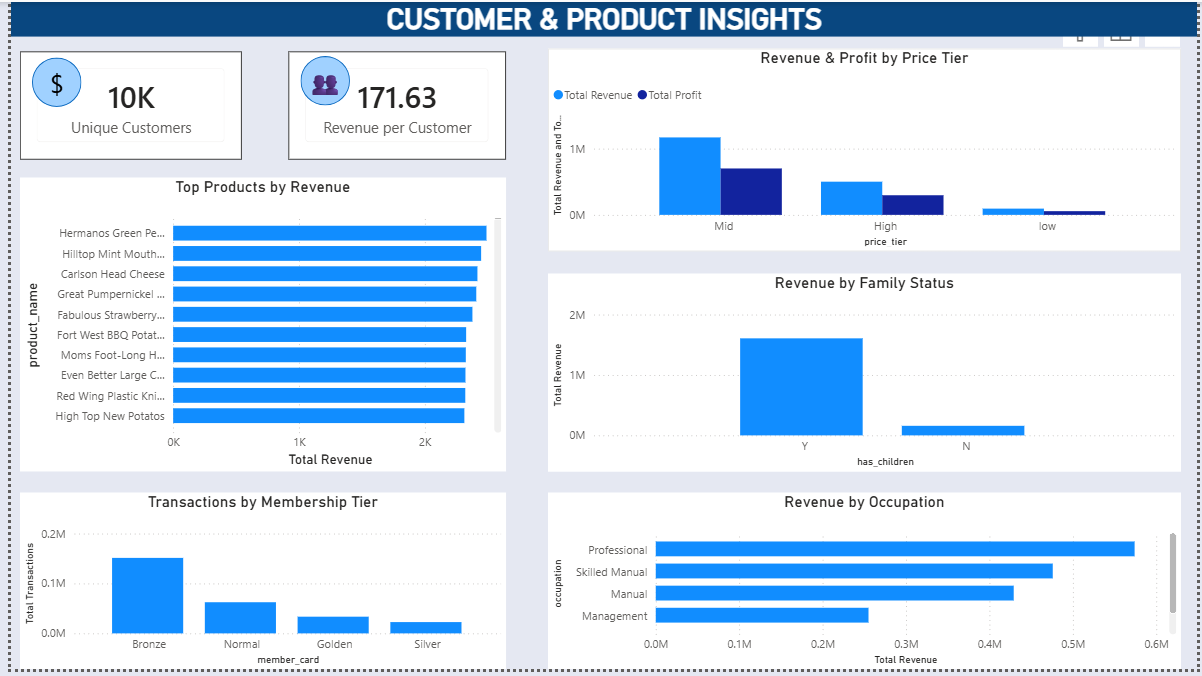

The page's visual inventory and layout, read from the dashboard file:
{"tool":"powerbi","page":{"name":"Customer & Product Analysis","canvas":[1280,720],"ordinal":1},"visuals":[{"type":"cardVisual","fields":{"Data":["Measures (2).Unique Customers"]},"box":[9.7,53.4,239.6,116.6],"z":0},{"type":"cardVisual","fields":{"Data":["Measures (2).Revenue per Customer"]},"box":[299.6,53.4,234.8,116.6],"z":1000},{"type":"clusteredBarChart","title":"Top Products by Revenue","fields":{"Category":["MavenMarket_Products.product_name"],"Y":["Measures (2).Total Revenue"]},"box":[9.7,189.4,524.6,317.4],"z":2000},{"type":"clusteredColumnChart","title":"Revenue & Profit by Price Tier","fields":{"Category":["MavenMarket_Products.price_tier"],"Y":["Measures (2).Total Revenue","Measures (2).Total Profit"]},"box":[579.7,50.2,683.3,218.6],"z":3000},{"type":"clusteredColumnChart","title":"Transactions by Membership Tier","fields":{"Category":["MavenMarket_Customers.member_card"],"Y":["Measures (2).Total Transactions"]},"box":[9.7,529.5,524.6,191.1],"z":4000},{"type":"clusteredBarChart","title":"Revenue by Occupation","fields":{"Category":["MavenMarket_Customers.occupation"],"Y":["Measures (2).Total Revenue"]},"box":[579.7,529.5,683.3,191.1],"z":5000},{"type":"clusteredColumnChart","title":"Revenue by Family Status","fields":{"Category":["MavenMarket_Customers.has_children"],"Y":["Measures (2).Total Revenue"]},"box":[579.7,293.1,683.3,213.7],"z":6000},{"type":"shape","box":[312.5,58.3,53.4,53.4],"z":7000},{"type":"shape","box":[22.7,59.9,53.4,53.4],"z":8000},{"type":"textbox","title":"CUSTOMER & PRODUCT INSIGHTS","box":[0,0,1280.8,37.2],"z":9000}]}

Visuals, with their boxes in screenshot pixels (x1, y1, x2, y2), scaled from the page's 1280x720 canvas onto the 1202x676 screenshot:
cardVisual - Measures (2).Unique Customers: bbox=(9, 50, 234, 160)
cardVisual - Measures (2).Revenue per Customer: bbox=(281, 50, 502, 160)
"Top Products by Revenue" clusteredBarChart: bbox=(9, 178, 502, 476)
"Revenue & Profit by Price Tier" clusteredColumnChart: bbox=(544, 47, 1186, 252)
"Transactions by Membership Tier" clusteredColumnChart: bbox=(9, 497, 502, 675)
"Revenue by Occupation" clusteredBarChart: bbox=(544, 497, 1186, 675)
"Revenue by Family Status" clusteredColumnChart: bbox=(544, 275, 1186, 476)
shape: bbox=(293, 55, 344, 105)
shape: bbox=(21, 56, 71, 106)
"CUSTOMER & PRODUCT INSIGHTS" textbox: bbox=(0, 0, 1201, 35)
